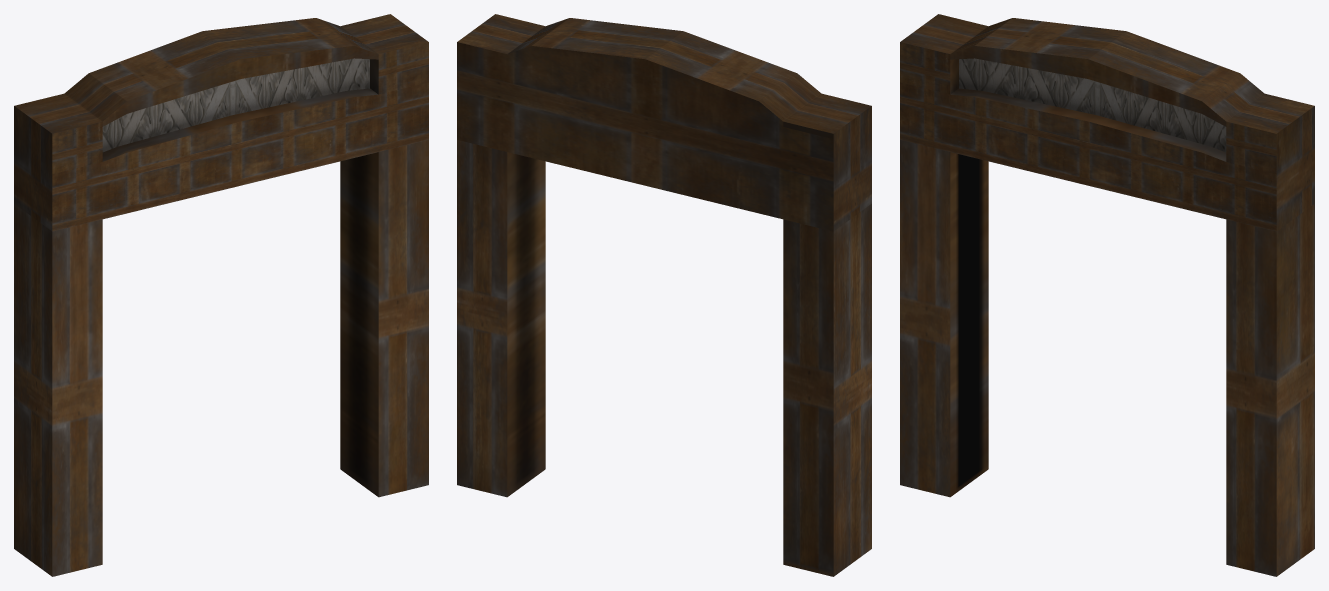
File: Doorframe_v2.fbx
3 renders of one model, left to right at view 1: azimuth 30°, elevation 25°; view 2: azimuth 150°, elevation 25°; view 3: azimuth 330°, elevation 25°, orthographic.
Parts seen in each view (by area): view 1: Doorframe; view 2: Doorframe; view 3: Doorframe.
Part boxes in pixels (<box>): Doorframe: <box>14,14,428,576</box>; Doorframe: <box>457,14,871,576</box>; Doorframe: <box>900,14,1314,576</box>.
Size of the model in its own units: 218 by 262 by 38.47.
